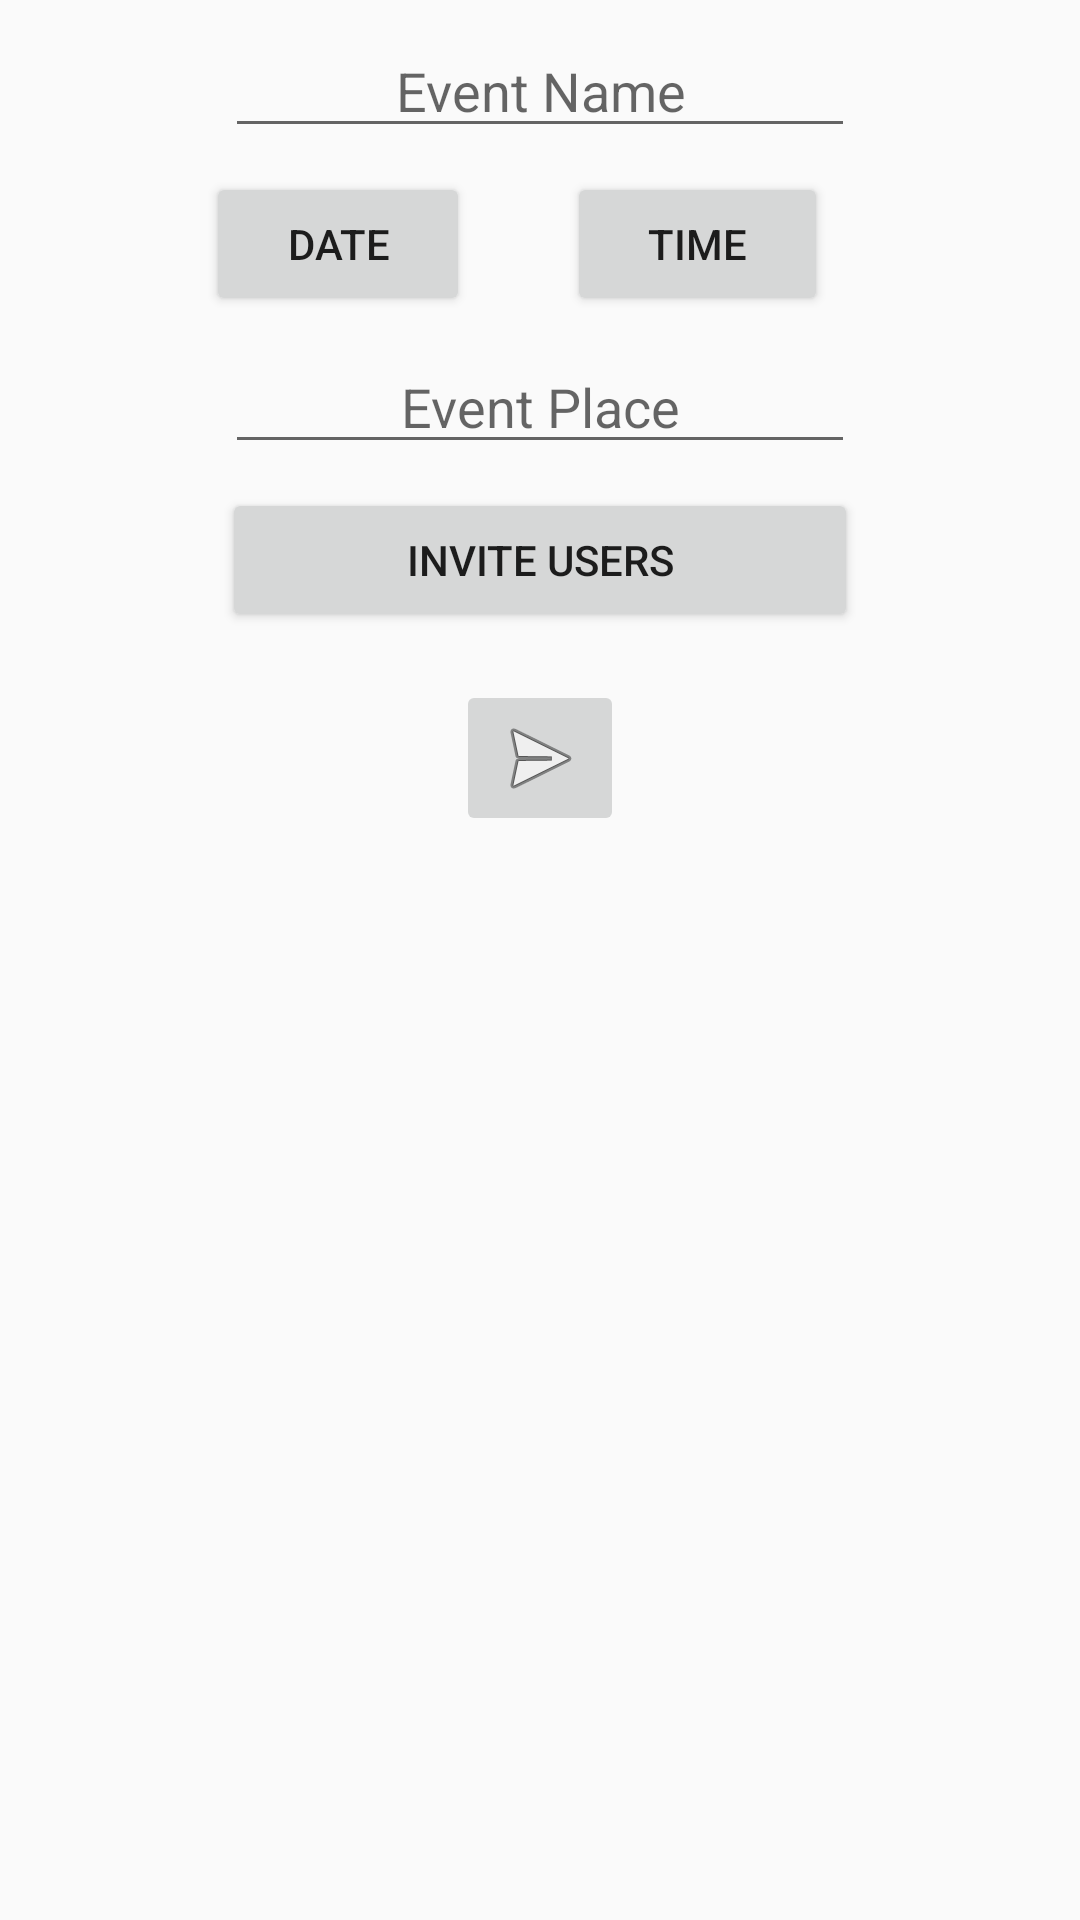

Icons on this 1080px x 1920px Android screen, each with its box as (x1,y1,x2,y2):
send: (468,698,612,818)
